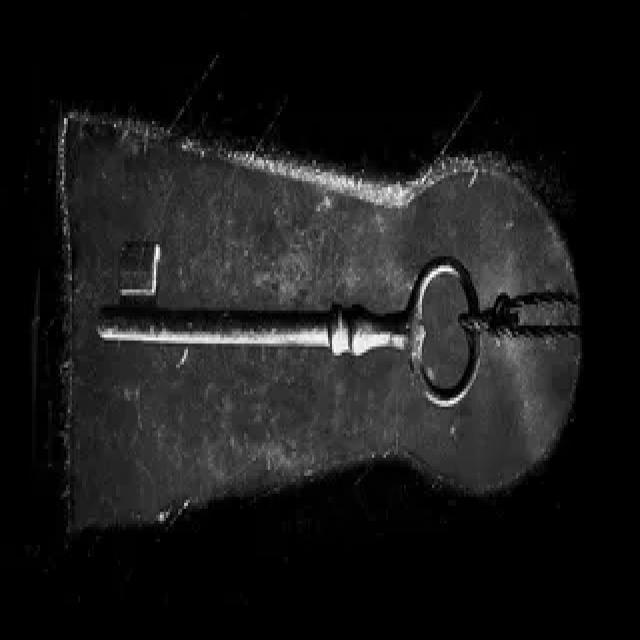key: (90, 214, 491, 414)
